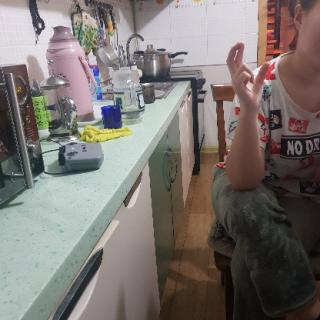DHELL: (222, 38, 271, 113)
